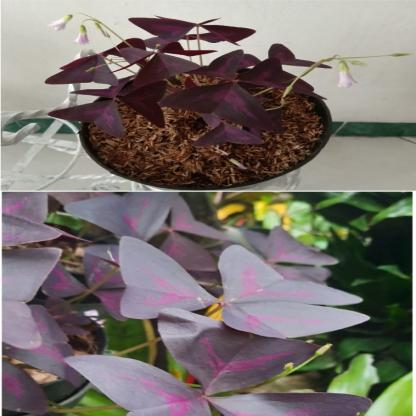Kupu-Kupu: (65, 330, 380, 416), (106, 244, 384, 334), (64, 45, 289, 136), (45, 86, 185, 134), (128, 4, 265, 46), (182, 58, 282, 115)
